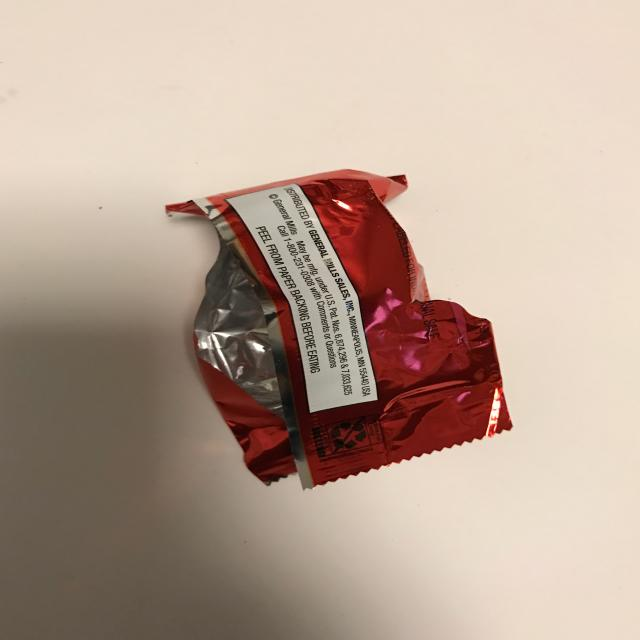Plastic: (127, 142, 554, 567)
